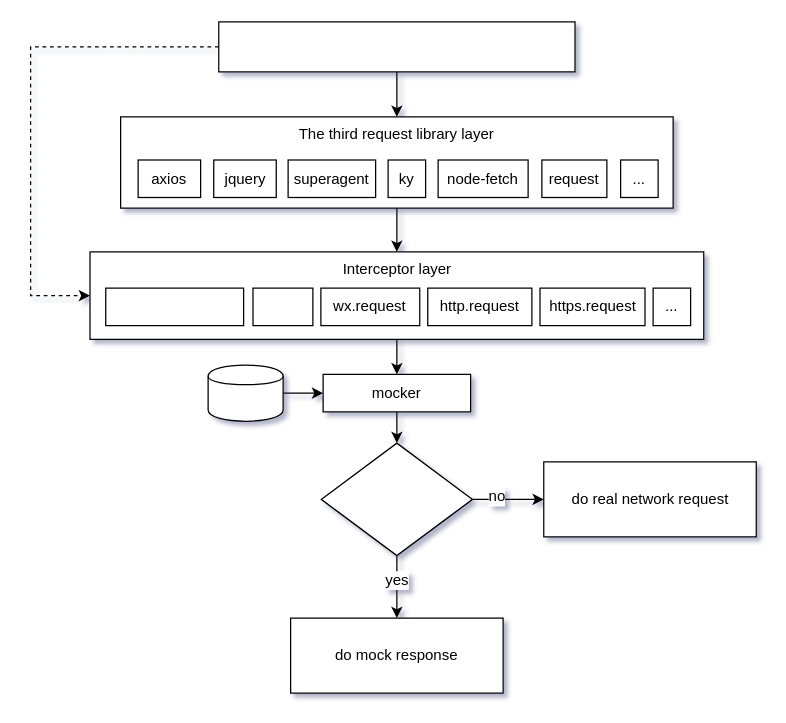
Image size: 786x723. Some labels were removed from this diagram. Here are the shapes that lost their labels. From the top down, the centre of each, then its label:
At point (396, 46): "Business code layer".
At point (174, 306): "XMLHttpRequest".
At point (282, 306): "fetch".
At point (245, 392): "mock data".
At point (396, 499): "matched?".
